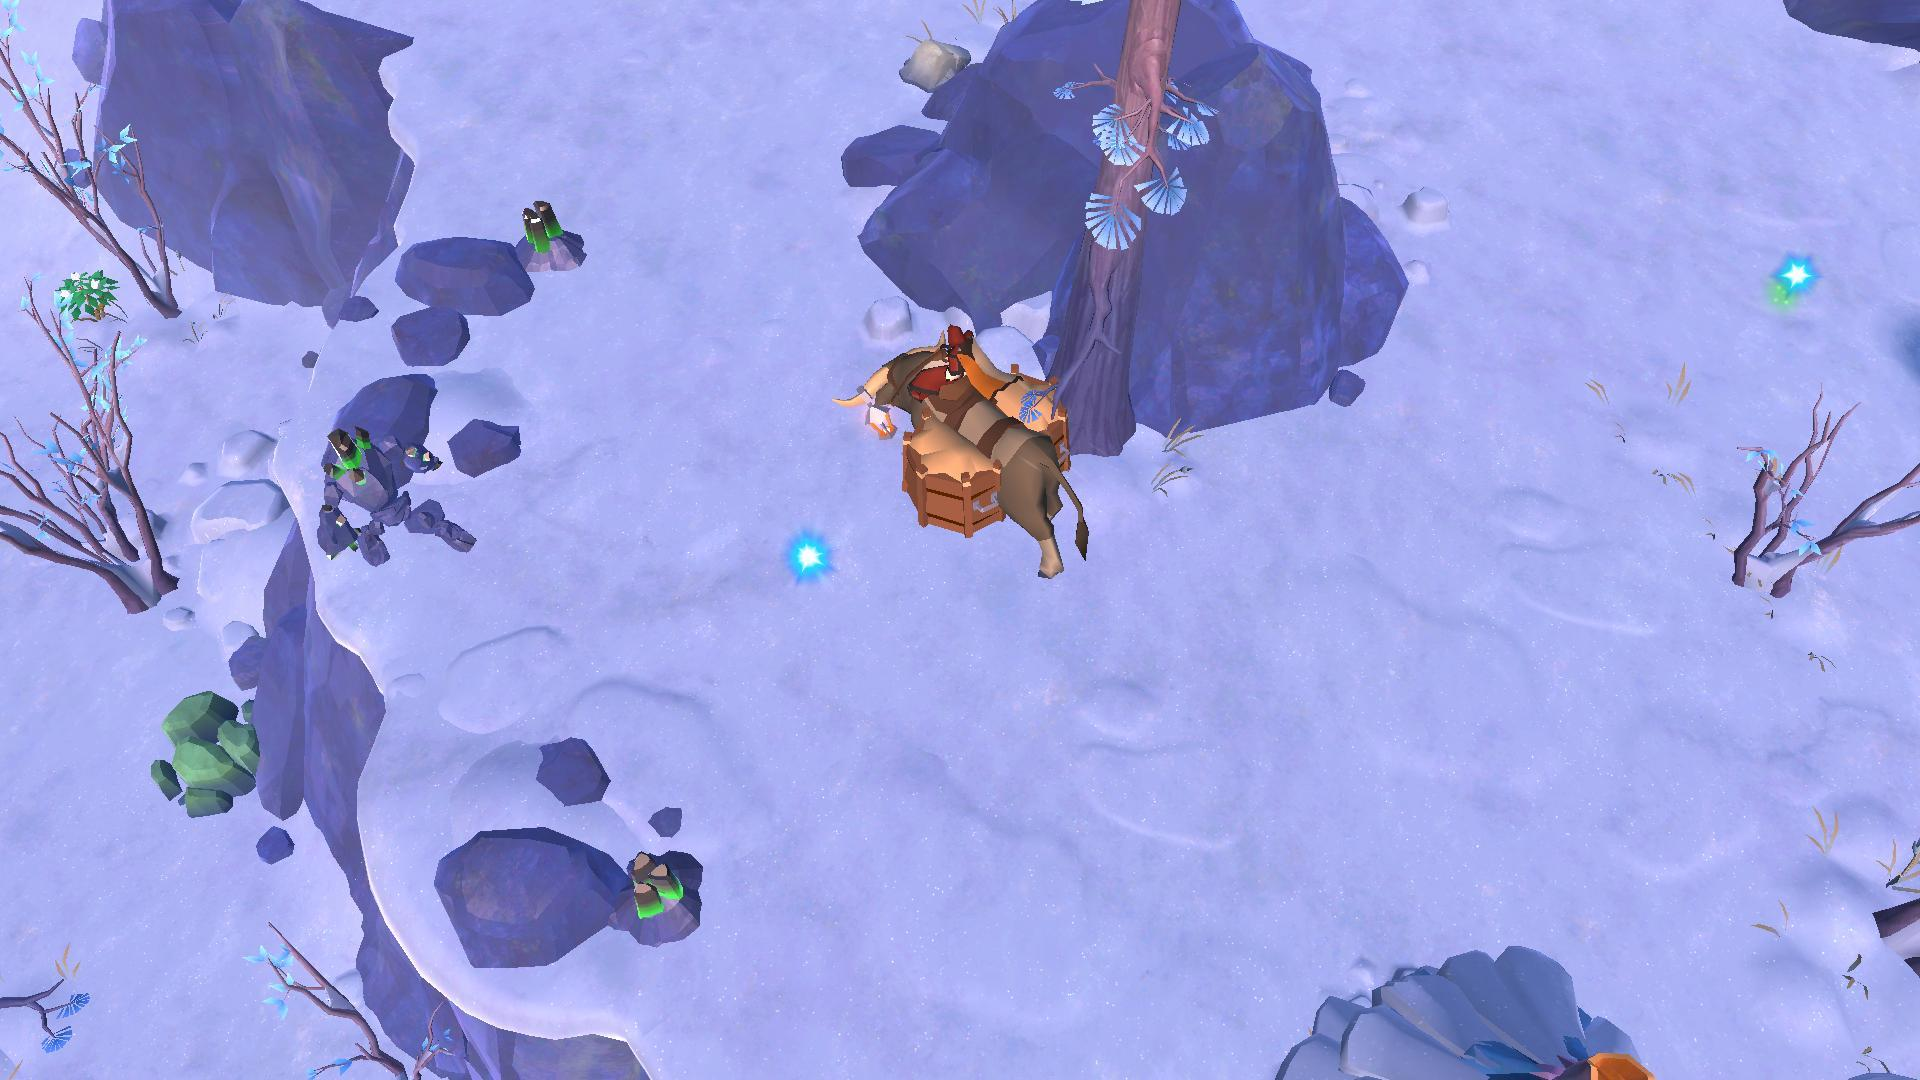fiber_t3: (46, 260, 119, 327)
ore_t3: (620, 843, 683, 922), (513, 195, 562, 253)
rock_t3: (131, 684, 273, 815)
